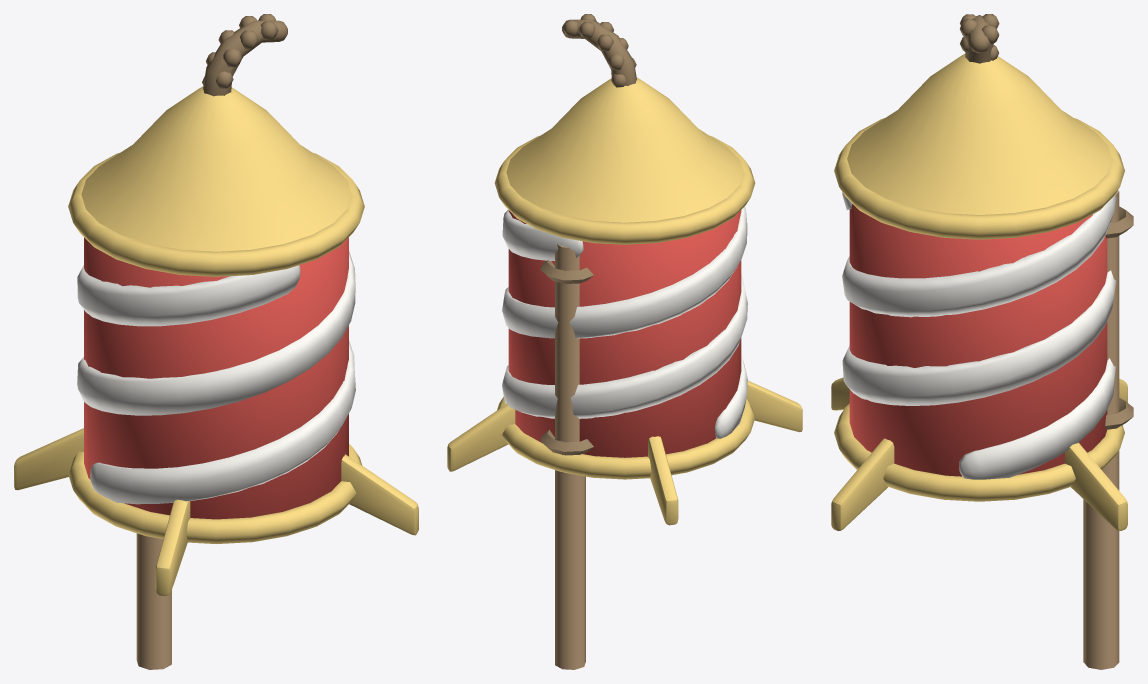
The model's file is rocket.glb.
3 views of the same model, side by side, from view 1: azimuth 30°, elevation 25°; view 2: azimuth 150°, elevation 25°; view 3: azimuth 270°, elevation 25° (orthographic). The views are drawn at different scales.
Parts seen in each view (by area): view 1: rocket; view 2: rocket; view 3: rocket.
Boxes of the visible parts, x1,y1,x2,y2 form: rocket: (14,14,418,669); rocket: (447,14,802,669); rocket: (831,14,1133,669).
Size of the model in its own units: 0.1827 by 0.4524 by 0.1863.
